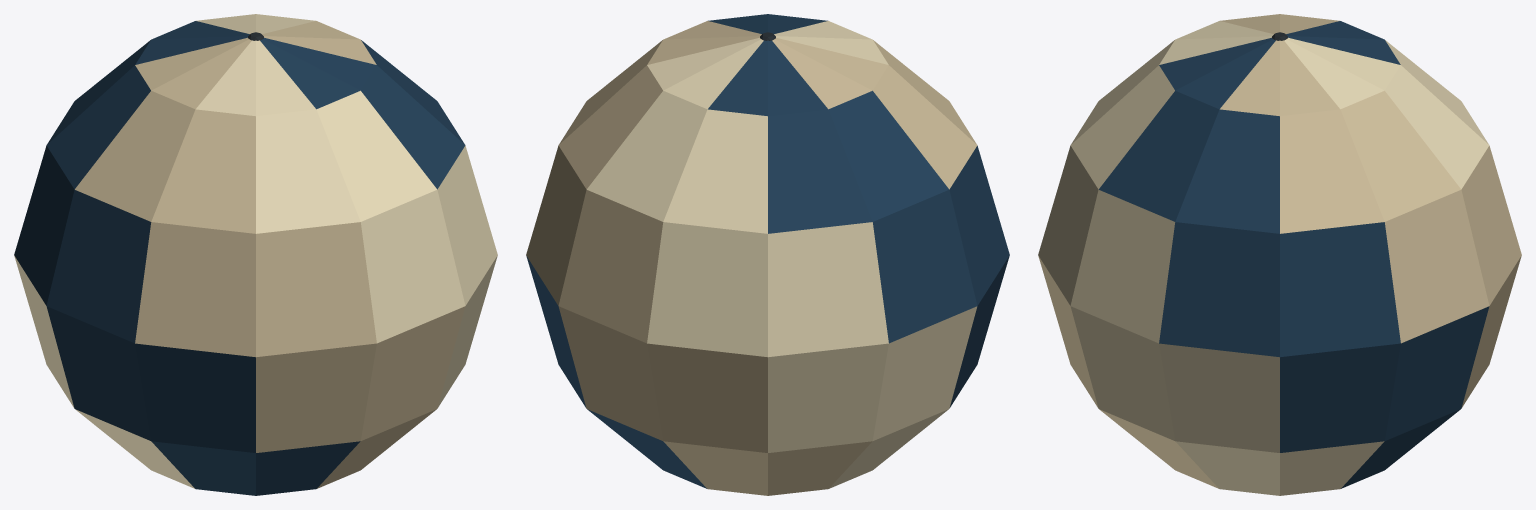
File: b17_striped_volleyball.glb
3 views of the same model, side by side, from view 1: azimuth 30°, elevation 25°; view 2: azimuth 150°, elevation 25°; view 3: azimuth 270°, elevation 25° (orthographic).
Parts seen in each view (by area): view 1: b17_striped_volleyball; view 2: b17_striped_volleyball; view 3: b17_striped_volleyball.
Part boxes in pixels (x1=…): b17_striped_volleyball: x1=14, y1=14, x2=497, y2=495; b17_striped_volleyball: x1=526, y1=14, x2=1009, y2=495; b17_striped_volleyball: x1=1038, y1=14, x2=1521, y2=495.
Bounding box in the file's own units: 0.21 × 0.2105 × 0.21.
